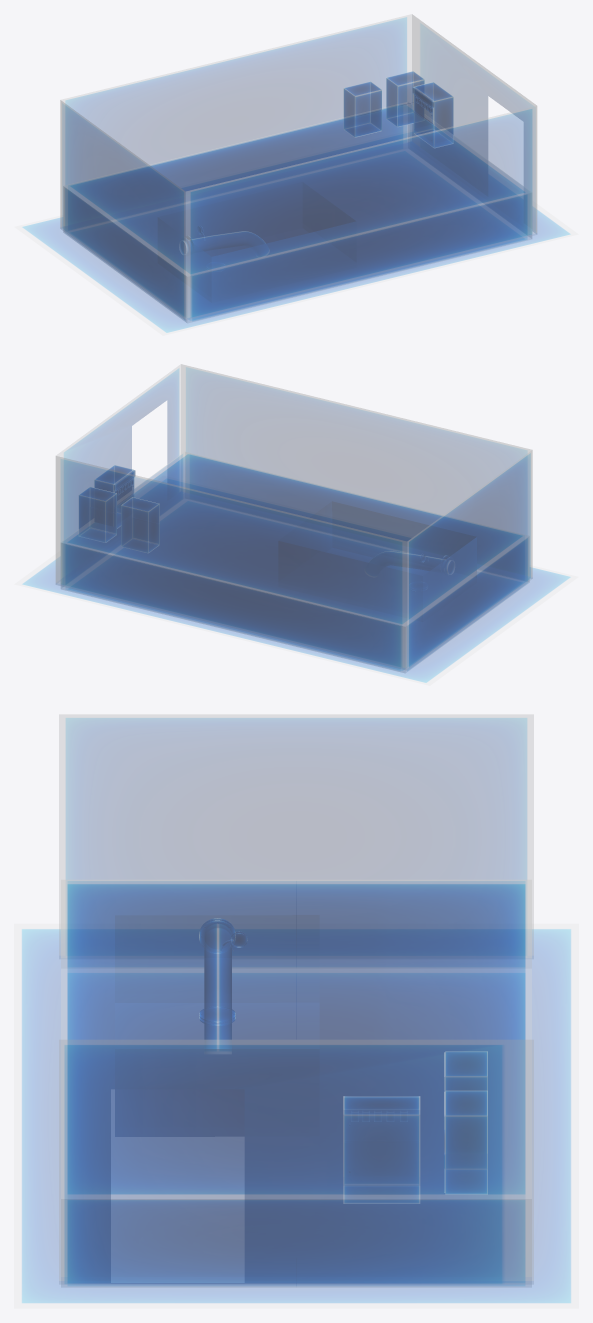
3 views of the same model, one above another, from view 1: azimuth 30°, elevation 25°; view 2: azimuth 150°, elevation 25°; view 3: azimuth 270°, elevation 25° (orthographic). The views are drawn at different scales.
Visible parts, largest first — view 1: 立方体.000; view 2: 立方体.000; view 3: 立方体.000.
Boxes of the visible parts, left/top/right/bottom form: 立方体.000: left=15, top=14, right=578, bottom=335; 立方体.000: left=14, top=364, right=577, bottom=685; 立方体.000: left=14, top=714, right=578, bottom=1308.
Size of the model in its own units: 1.31 by 0.4001 by 0.8128.
Materials: 1 (1 with a texture image).
